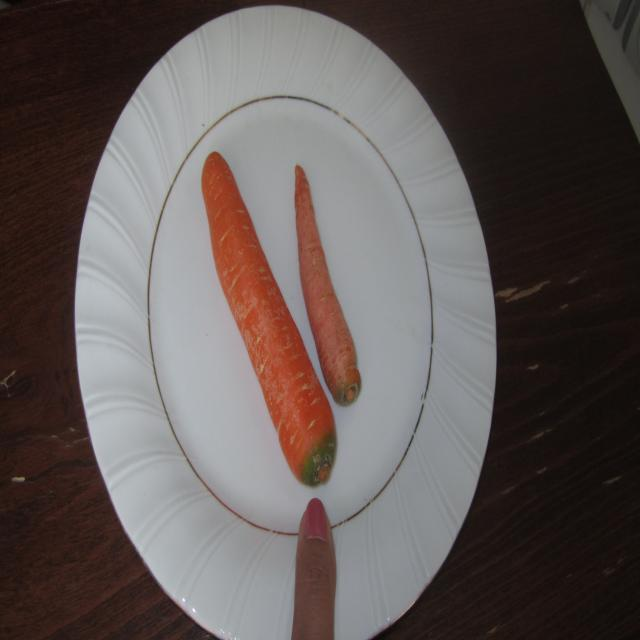Carrot: (196, 146, 342, 496), (290, 161, 364, 410)
Finger: (282, 490, 348, 640)
